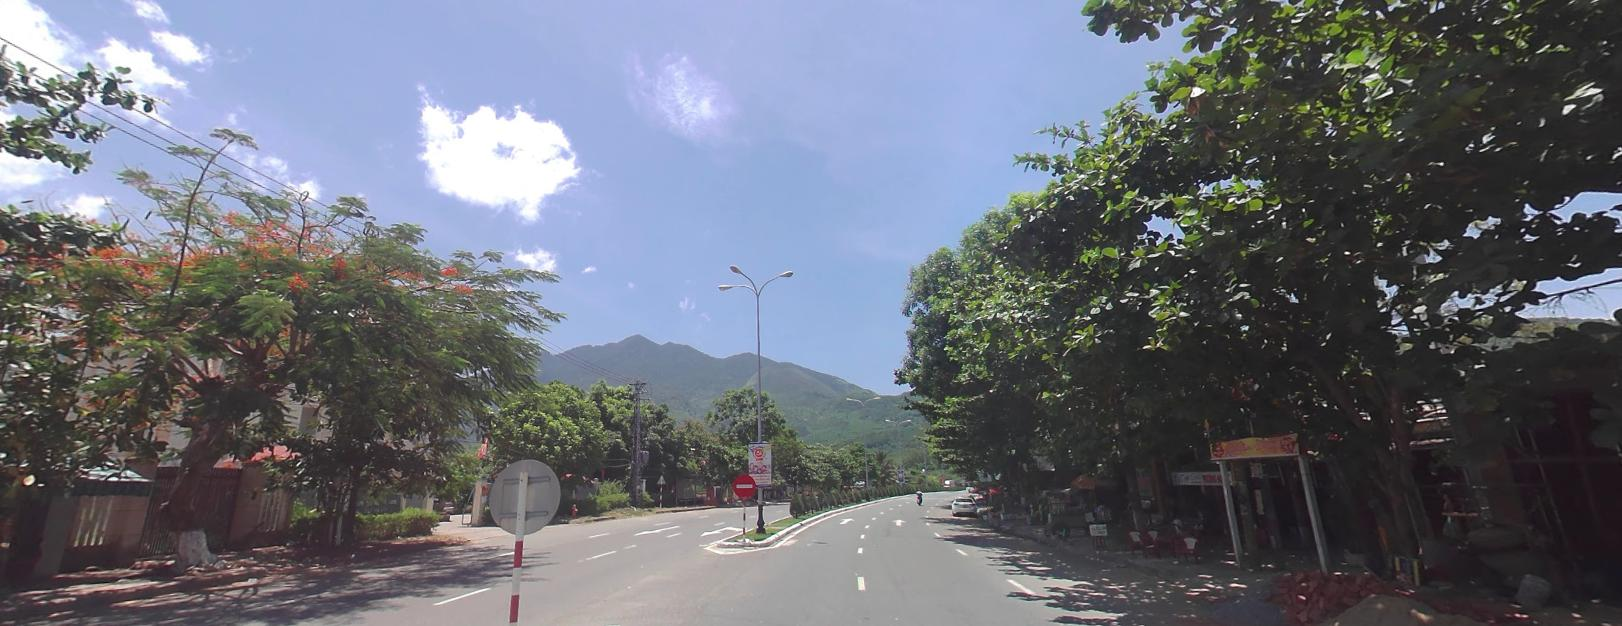Cam nguoc chieu: (733, 473, 755, 496)
